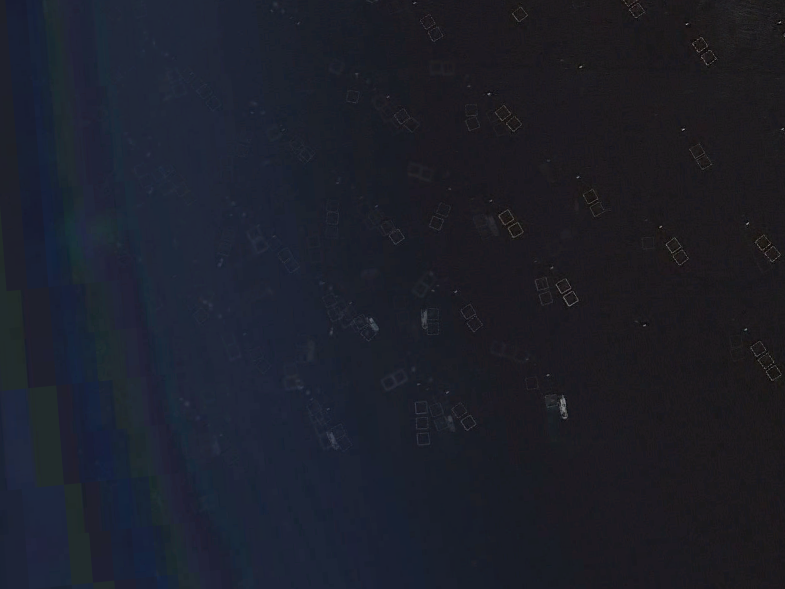ship: (556, 391, 572, 424), (417, 306, 431, 329), (368, 316, 380, 332)
square: (425, 58, 449, 86), (626, 1, 651, 24), (506, 4, 532, 26), (562, 290, 584, 312), (379, 375, 400, 397), (590, 200, 610, 223), (673, 248, 696, 268), (767, 364, 784, 390), (507, 221, 528, 242), (450, 401, 471, 422), (390, 367, 411, 388), (754, 232, 774, 254), (580, 187, 599, 210), (496, 204, 515, 227), (414, 431, 438, 449), (663, 233, 683, 254), (699, 47, 718, 69), (689, 142, 708, 164), (765, 243, 783, 266), (698, 155, 718, 175), (435, 201, 455, 221), (749, 338, 768, 359), (554, 275, 572, 297), (494, 103, 514, 122), (505, 114, 524, 134), (757, 354, 776, 374), (389, 228, 408, 247), (440, 61, 460, 79), (459, 415, 480, 432), (324, 209, 343, 227), (421, 12, 438, 32), (428, 214, 445, 234), (524, 375, 544, 392), (348, 89, 366, 107), (426, 24, 446, 40), (463, 116, 483, 132), (694, 34, 709, 55), (466, 315, 484, 332), (412, 414, 431, 429), (462, 103, 482, 117), (459, 299, 471, 315), (413, 401, 426, 413)
